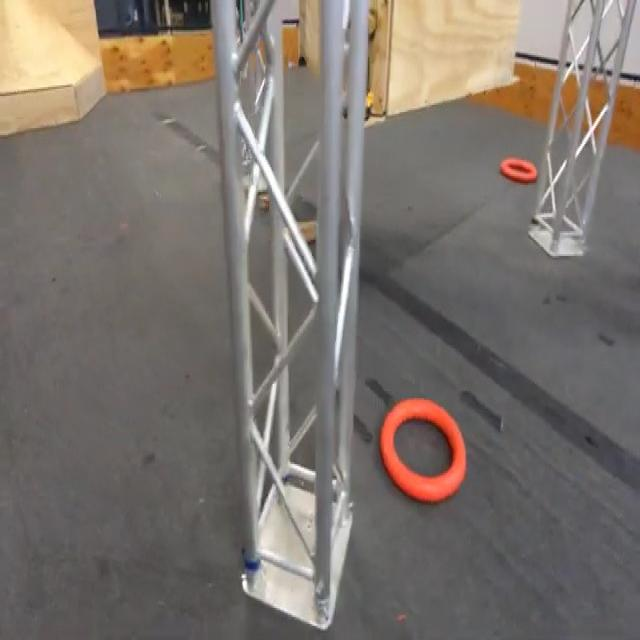note: (380, 399, 467, 501), (499, 157, 538, 185)
